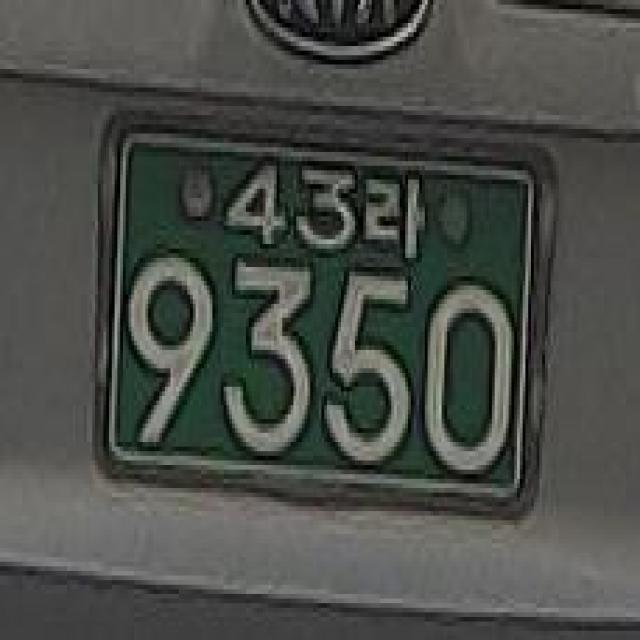illegal_plate: (86, 100, 556, 547)
